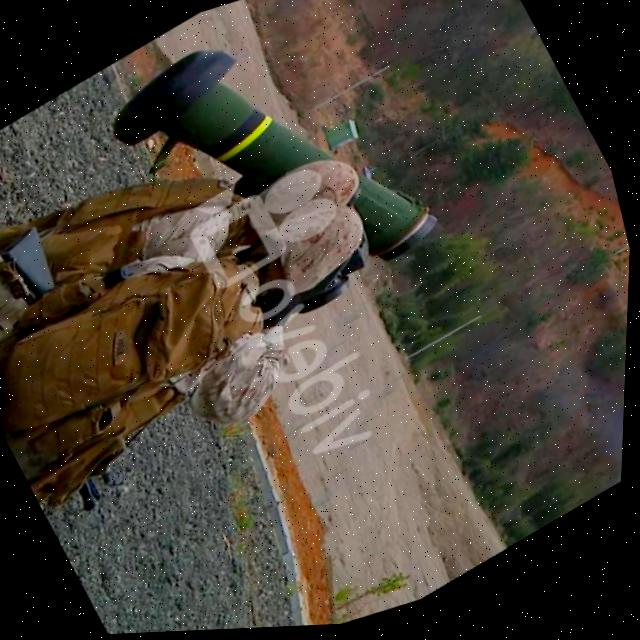rocket: (77, 0, 459, 373)
